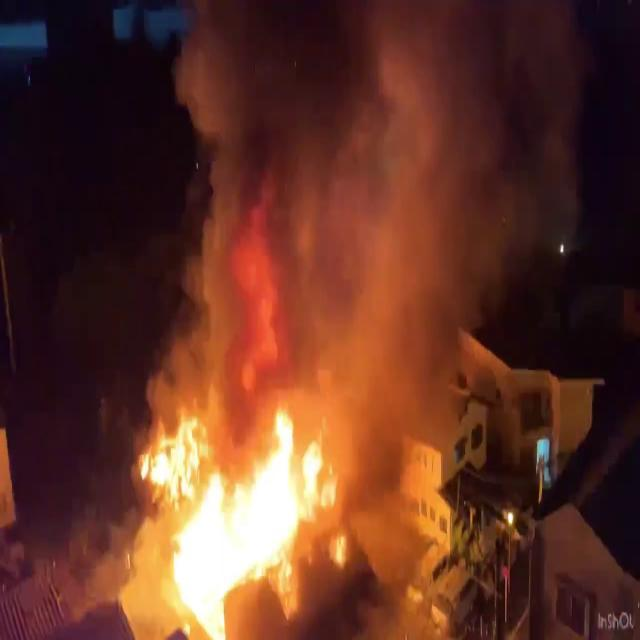Fire: (130, 402, 346, 632)
Smoke: (142, 1, 488, 438)
